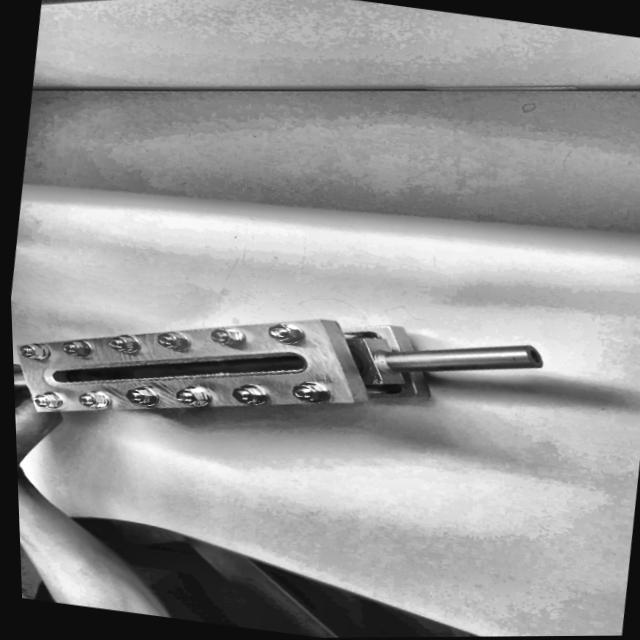ShuiWeiQi_12: (7, 227, 559, 499)
